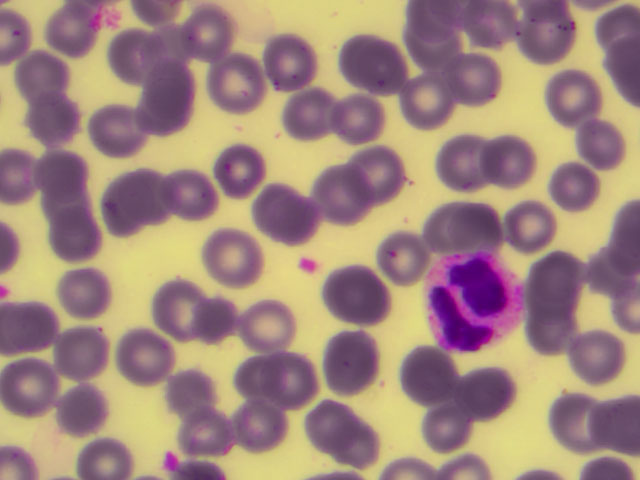Platelets: (300, 255, 318, 275), (162, 451, 179, 470)
RBC: (330, 264, 390, 325), (100, 174, 153, 237), (1, 362, 61, 416), (55, 325, 110, 382), (136, 79, 191, 136), (548, 68, 603, 125), (340, 32, 395, 89), (262, 32, 317, 89), (281, 84, 336, 141), (209, 55, 264, 112), (92, 101, 147, 158), (547, 389, 602, 446), (520, 7, 575, 64), (396, 68, 451, 125), (397, 346, 452, 403), (459, 365, 514, 422), (122, 167, 177, 224), (439, 134, 494, 191), (349, 147, 404, 204), (315, 166, 370, 223), (268, 187, 323, 244), (322, 333, 377, 390), (240, 295, 295, 352), (207, 227, 262, 284), (150, 276, 205, 333), (118, 326, 173, 383), (356, 41, 407, 98), (569, 331, 622, 383), (449, 202, 502, 253), (596, 395, 640, 456), (598, 2, 640, 65), (428, 396, 474, 453), (262, 355, 313, 406), (473, 1, 523, 51), (59, 266, 110, 315), (50, 212, 101, 261), (6, 302, 57, 351), (501, 199, 552, 248), (166, 369, 217, 418), (235, 350, 286, 399), (182, 408, 233, 457), (162, 169, 213, 218), (407, 22, 458, 71), (450, 55, 501, 104), (179, 6, 230, 55), (140, 22, 191, 71), (141, 58, 192, 107), (108, 28, 159, 77), (44, 6, 95, 55), (15, 51, 66, 100), (31, 95, 82, 144), (37, 180, 88, 229), (36, 149, 87, 198), (328, 417, 379, 466), (306, 400, 357, 449), (235, 402, 286, 451), (423, 201, 474, 250), (485, 134, 536, 183), (58, 382, 109, 431), (336, 92, 387, 141), (582, 246, 633, 295), (390, 288, 441, 337), (528, 302, 579, 351), (526, 252, 577, 301), (576, 119, 627, 168), (549, 160, 600, 209), (376, 230, 427, 278), (606, 31, 640, 103), (218, 146, 263, 194), (1, 150, 37, 208), (81, 440, 131, 480), (406, 1, 457, 39), (1, 2, 32, 61), (1, 304, 37, 354), (1, 213, 28, 272), (191, 301, 232, 337), (585, 448, 631, 480), (1, 442, 38, 480), (438, 454, 492, 480), (609, 286, 639, 328), (610, 241, 639, 284), (386, 456, 435, 480), (613, 201, 639, 246), (136, 1, 178, 25), (449, 1, 488, 25)
WBC: (425, 253, 522, 354)
